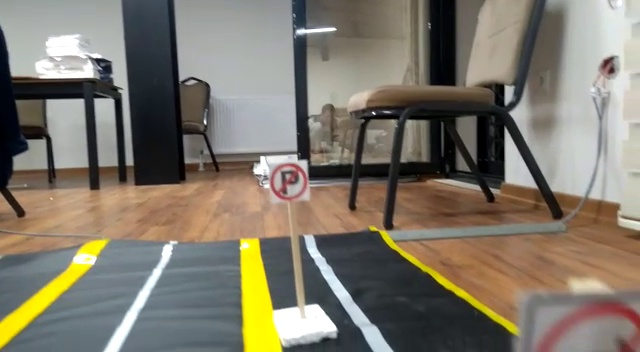park_yapilmaz: (270, 162, 310, 199)
